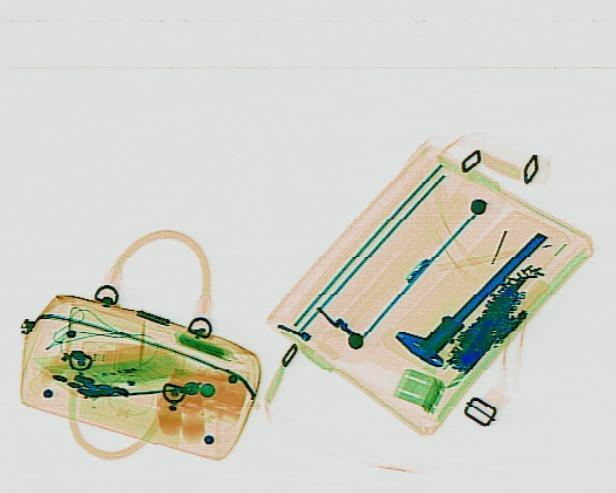plier: (458, 277, 527, 366)
